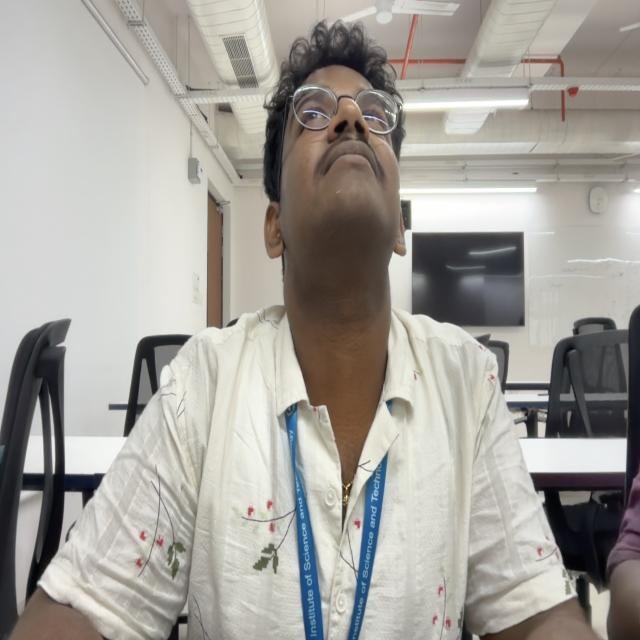sai: (263, 34, 408, 302)
